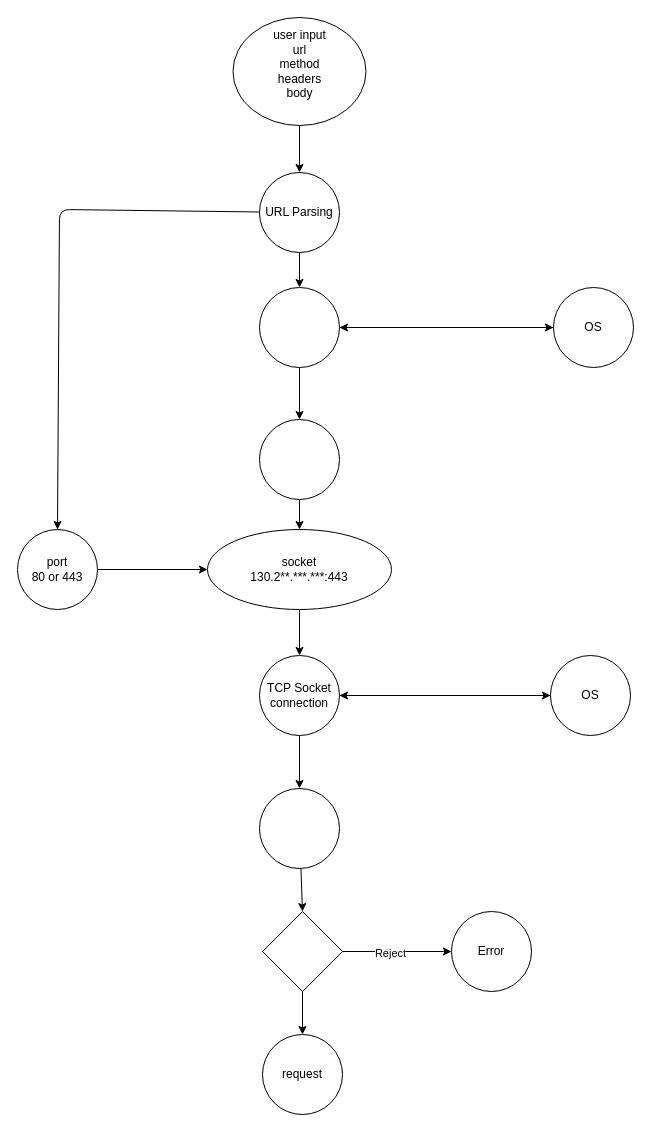
This 651x1132 diagram has some shape labels left out. The centre of each missing label's shape, as x and y in pixels:
DNS Resolver: point 299,327
IP: point 299,459
Secure?: point 302,951
TSL / SSL HANDSHAKE: point 299,828
